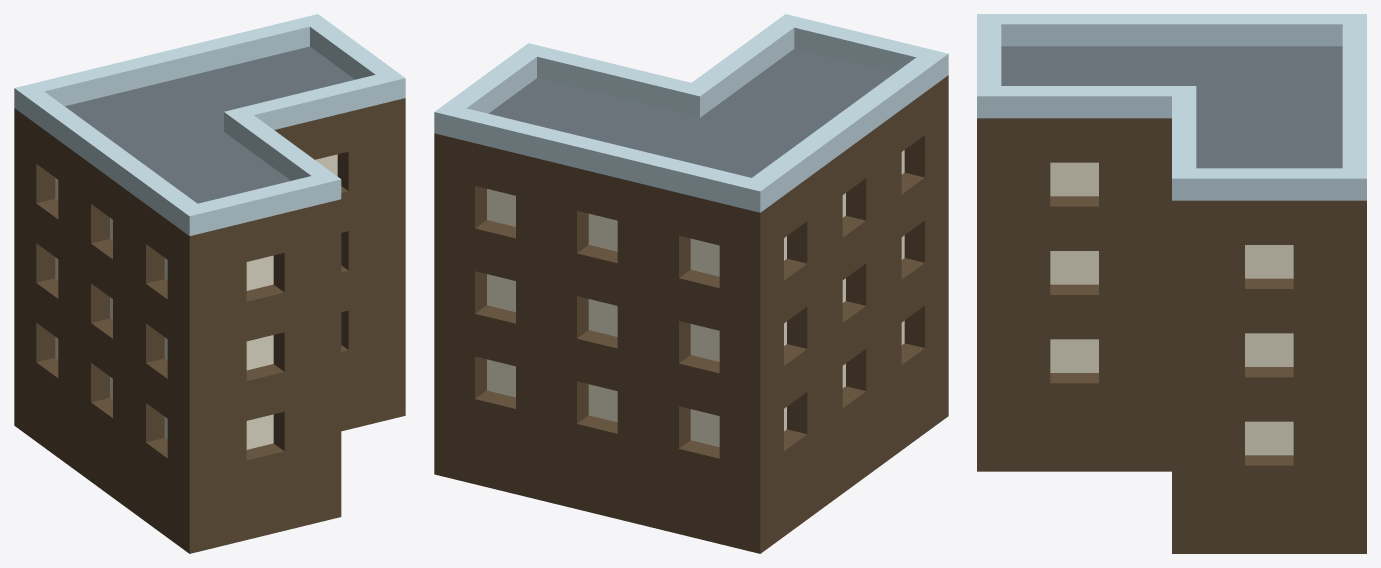
File: Building_3 (Brown).obj
3 views of the same model, side by side, from view 1: azimuth 30°, elevation 25°; view 2: azimuth 150°, elevation 25°; view 3: azimuth 270°, elevation 25° (orthographic). The views are drawn at different scales.
Parts seen in each view (by area): view 1: Building_3_(Brown); view 2: Building_3_(Brown); view 3: Building_3_(Brown).
Part boxes in pixels (bbox=[...]): Building_3_(Brown): bbox=[14, 14, 405, 553]; Building_3_(Brown): bbox=[434, 14, 948, 553]; Building_3_(Brown): bbox=[977, 14, 1366, 553].
Size of the model in its own units: 1.6 by 1.7 by 1.6.
